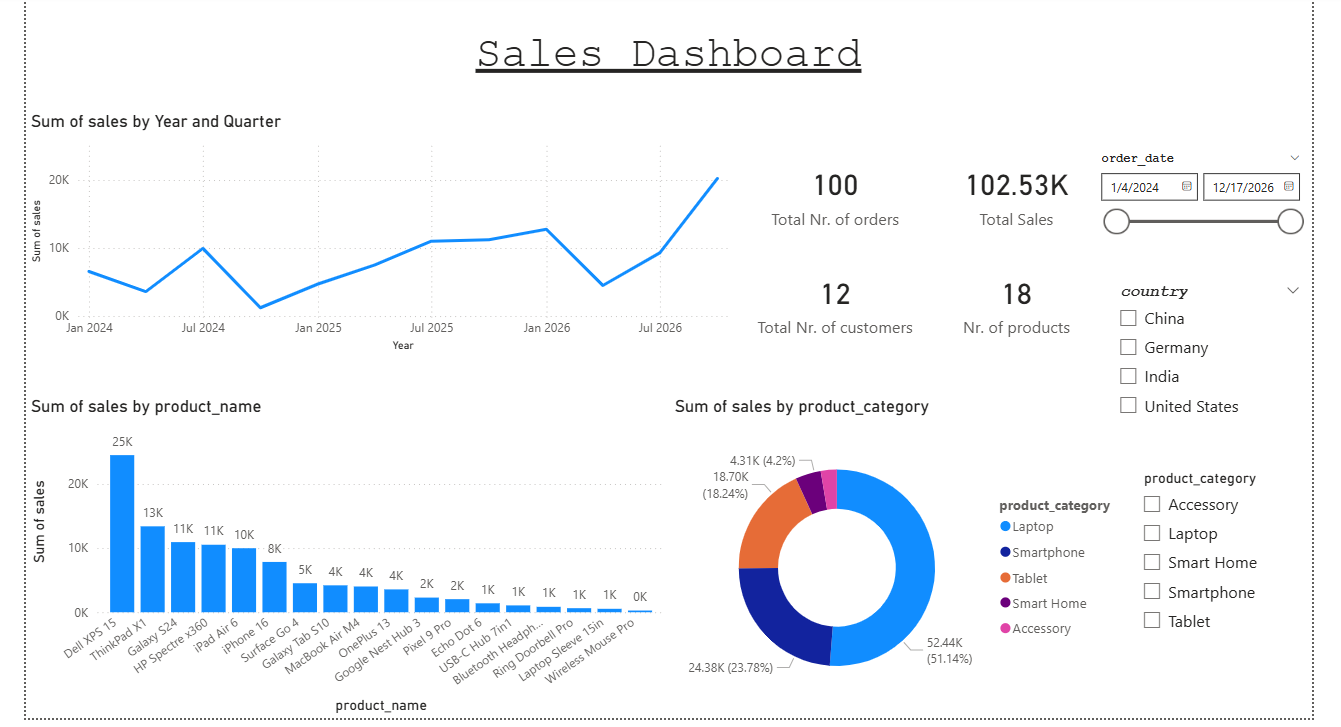

This screenshot's page, from the dashboard's own definition file:
{"tool":"powerbi","page":{"name":"Page 1","canvas":[1280,720],"ordinal":0},"visuals":[{"type":"columnChart","fields":{"Category":["orders.product_name"],"Y":["Sum(orders.sales)"]},"box":[0,399.3,640.6,320.9],"z":0},{"type":"donutChart","fields":{"Category":["orders.product_category"],"Y":["Sum(orders.sales)"]},"box":[640.6,399.3,459,320.9],"z":1000},{"type":"lineChart","fields":{"Y":["Sum(orders.sales)"],"Category":["orders.order_date.Variation.Date Hierarchy.Year","orders.order_date.Variation.Date Hierarchy.Quarter"]},"box":[0,115.7,715.3,243.8],"z":2000},{"type":"card","fields":{"Values":["Count(customers.customer_id)"]},"box":[715.3,252.5,180.4,107],"z":3000},{"type":"card","fields":{"Values":["Sum(orders.sales)"]},"box":[895.7,144.3,180.4,108.2],"z":4000},{"type":"card","fields":{"Values":["Count(orders.product_name)"]},"box":[895.7,252.5,180.4,107],"z":5000},{"type":"card","fields":{"Values":["Count(orders.order_id)"]},"box":[715.3,144.3,180.4,108.2],"z":6000},{"type":"slicer","fields":{"Values":["customers.country"]},"box":[1076,281.1,204,155.5],"z":7000},{"type":"slicer","fields":{"Values":["orders.order_date"]},"box":[1057.4,151.8,222.7,94.5],"z":7001},{"type":"slicer","fields":{"Values":["orders.product_category"]},"box":[1099.7,467.7,180.4,252.5],"z":7002},{"type":"textbox","box":[1057,0,223,150],"z":7003},{"type":"textbox","box":[440.4,31.1,398.1,61],"z":7004}]}

Visuals, with their boxes on the page's 1280x720 design canvas (x1, y1, x2, y2). These are canvas units, not pixel positions in the 1341x727 screenshot, which may show the page scaled, cropped or inside an application window:
columnChart - orders.product_name x Sum(orders.sales): {"left": 0, "top": 399, "right": 641, "bottom": 720}
donutChart - orders.product_category x Sum(orders.sales): {"left": 641, "top": 399, "right": 1100, "bottom": 720}
lineChart - Sum(orders.sales) x orders.order_date.Variation.Date Hierarchy.Year: {"left": 0, "top": 116, "right": 715, "bottom": 360}
card - Count(customers.customer_id): {"left": 715, "top": 252, "right": 896, "bottom": 360}
card - Sum(orders.sales): {"left": 896, "top": 144, "right": 1076, "bottom": 252}
card - Count(orders.product_name): {"left": 896, "top": 252, "right": 1076, "bottom": 360}
card - Count(orders.order_id): {"left": 715, "top": 144, "right": 896, "bottom": 252}
slicer - customers.country: {"left": 1076, "top": 281, "right": 1280, "bottom": 437}
slicer - orders.order_date: {"left": 1057, "top": 152, "right": 1280, "bottom": 246}
slicer - orders.product_category: {"left": 1100, "top": 468, "right": 1280, "bottom": 720}
textbox: {"left": 1057, "top": 0, "right": 1280, "bottom": 150}
textbox: {"left": 440, "top": 31, "right": 838, "bottom": 92}
